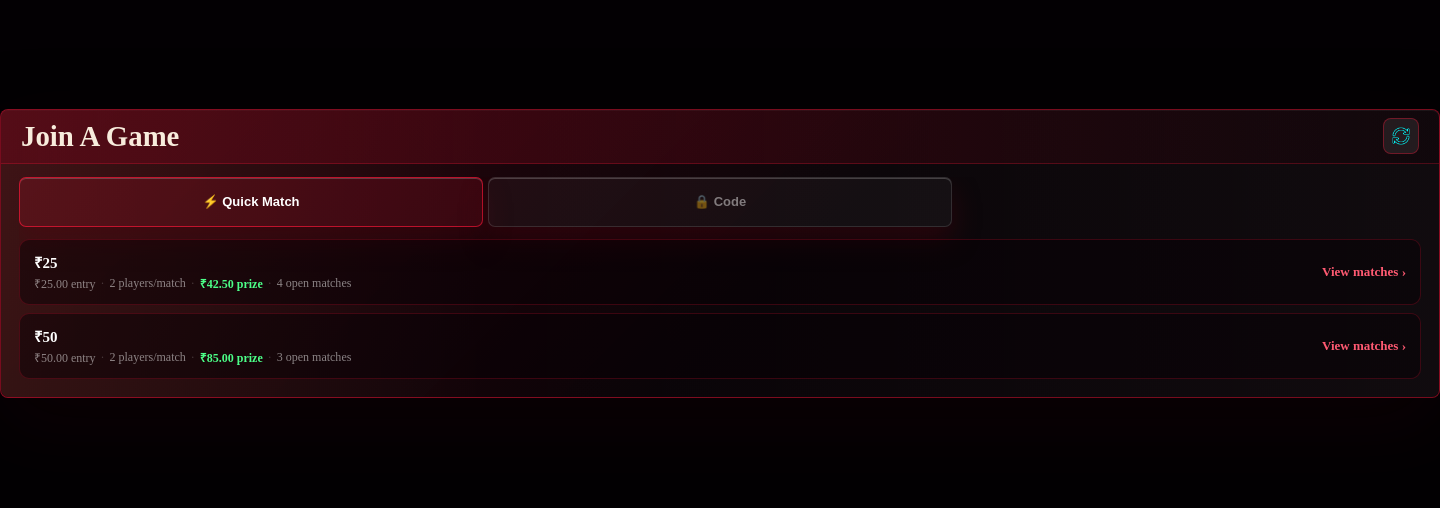
it: Quick Match list keeps every match after a join › keeps a full match visible as FULL (2/2, Join disabled) with the other matches still there
This screenshot has width=1440, height=508.
Click the text "₹25". click: point(46, 262)
box: [34,254,58,270]
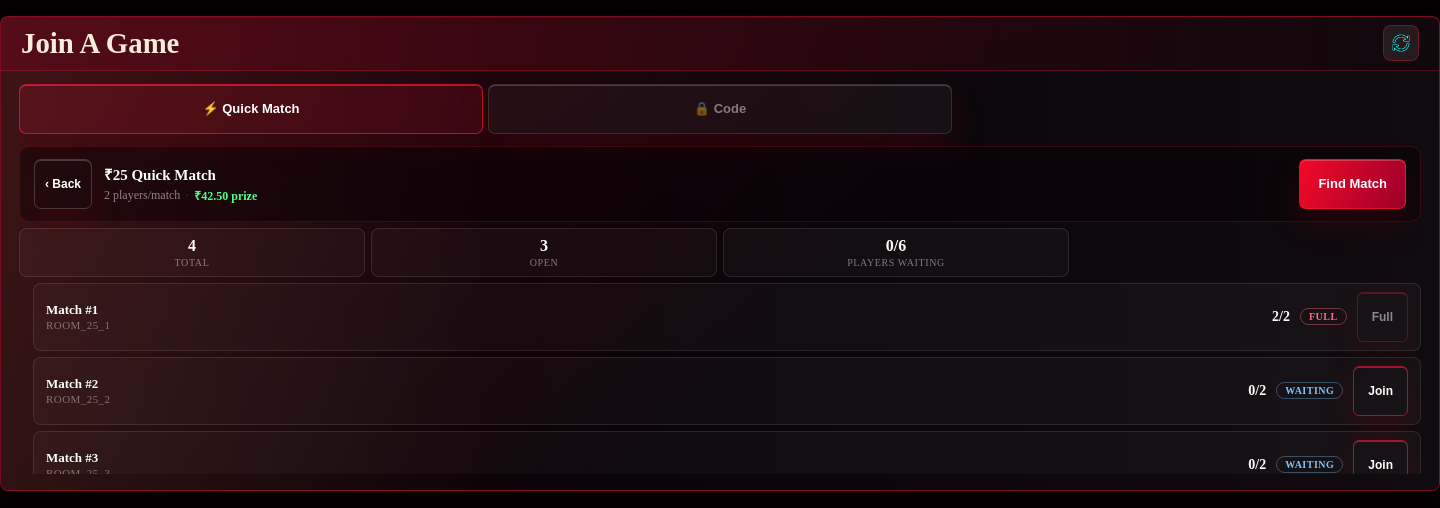
Expected: the text "₹25 Quick Match" is shown, [104,166,216,182]
Expected: the text "2/2" is shown, [1272,308,1290,324]
Expected: the text "FULL" is shown, [1300,308,1347,325]
